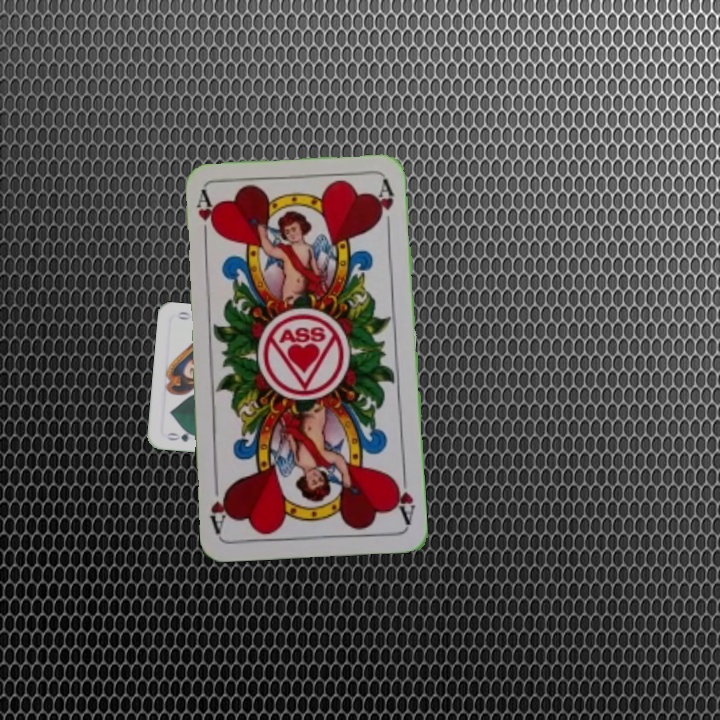GO: (162, 427, 202, 444)
HA: (390, 468, 418, 527), (193, 187, 218, 246)
